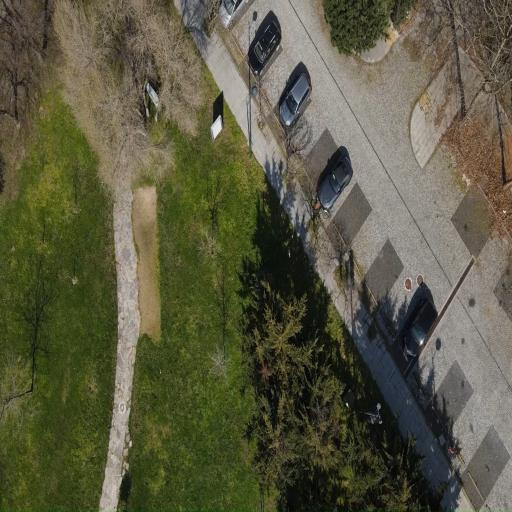person: (315, 155, 353, 211), (404, 299, 437, 357), (248, 19, 281, 75), (280, 73, 311, 126), (219, 0, 246, 27)
